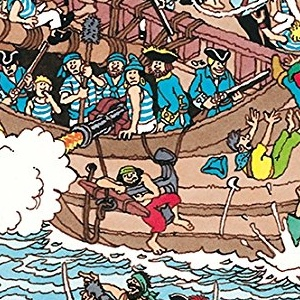Odlaw: (122, 116, 178, 184)
